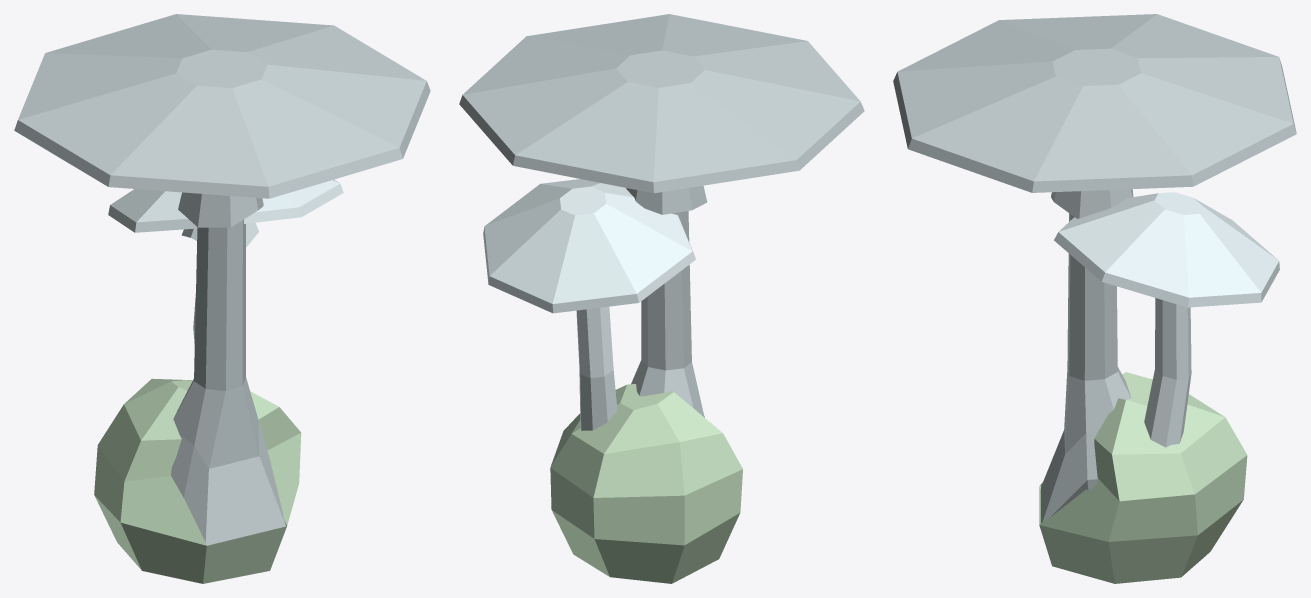
File: Amanita_OvoideaFlipped.fbx
3 renders of one model, left to right at view 1: azimuth 30°, elevation 25°; view 2: azimuth 150°, elevation 25°; view 3: azimuth 270°, elevation 25°, orthographic. The views are drawn at different scales.
Parts seen in each view (by area): view 1: Cylinder.002; view 2: Cylinder.002; view 3: Cylinder.002.
Part boxes in pixels (<box>): Cylinder.002: <box>14,14,430,583</box>; Cylinder.002: <box>459,14,864,583</box>; Cylinder.002: <box>893,14,1296,583</box>.
Bounding box in the file's own units: 129 × 173 × 129.
